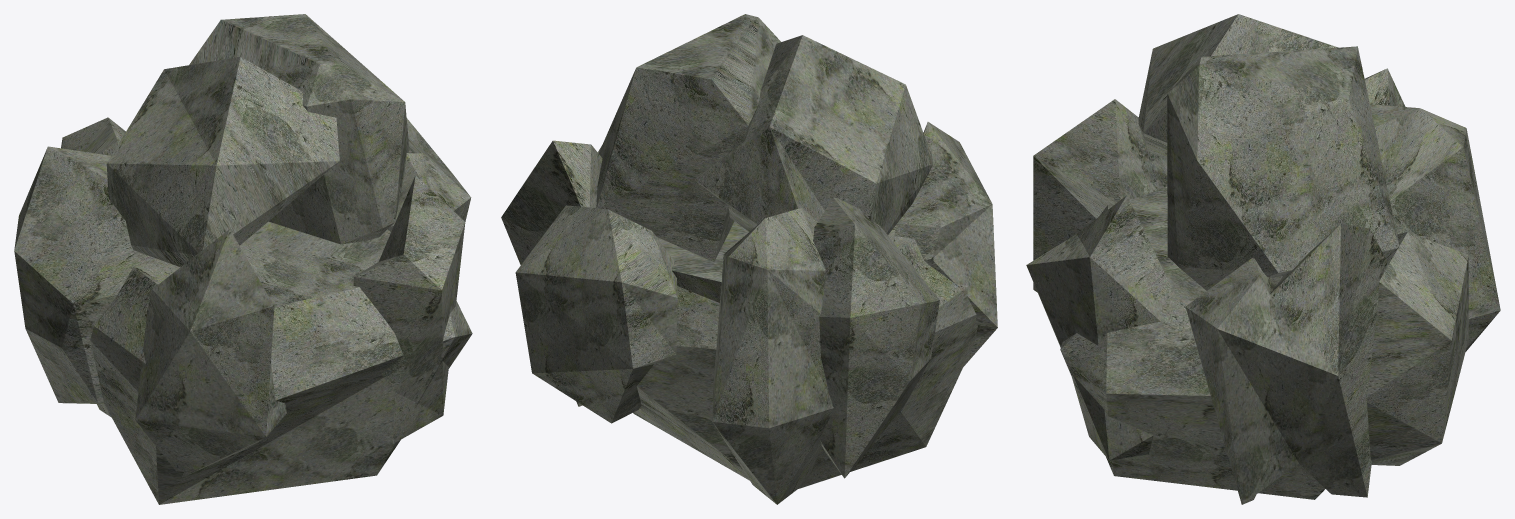
The model's file is poi_all_lair_cave_small_l3.fbx.
The picture shows the model from 3 angles, left to right: view 1: azimuth 30°, elevation 25°; view 2: azimuth 150°, elevation 25°; view 3: azimuth 270°, elevation 25°; orthographic projection. The views are drawn at different scales.
Parts seen in each view (by area): view 1: mesh_node; view 2: mesh_node; view 3: mesh_node.
Boxes of the visible parts, x1,y1,x2,y2 form: mesh_node: [14, 14, 472, 504]; mesh_node: [501, 14, 997, 504]; mesh_node: [1026, 14, 1500, 504].
Bounding box in the file's own units: 14.08 × 12.7 × 12.57.
